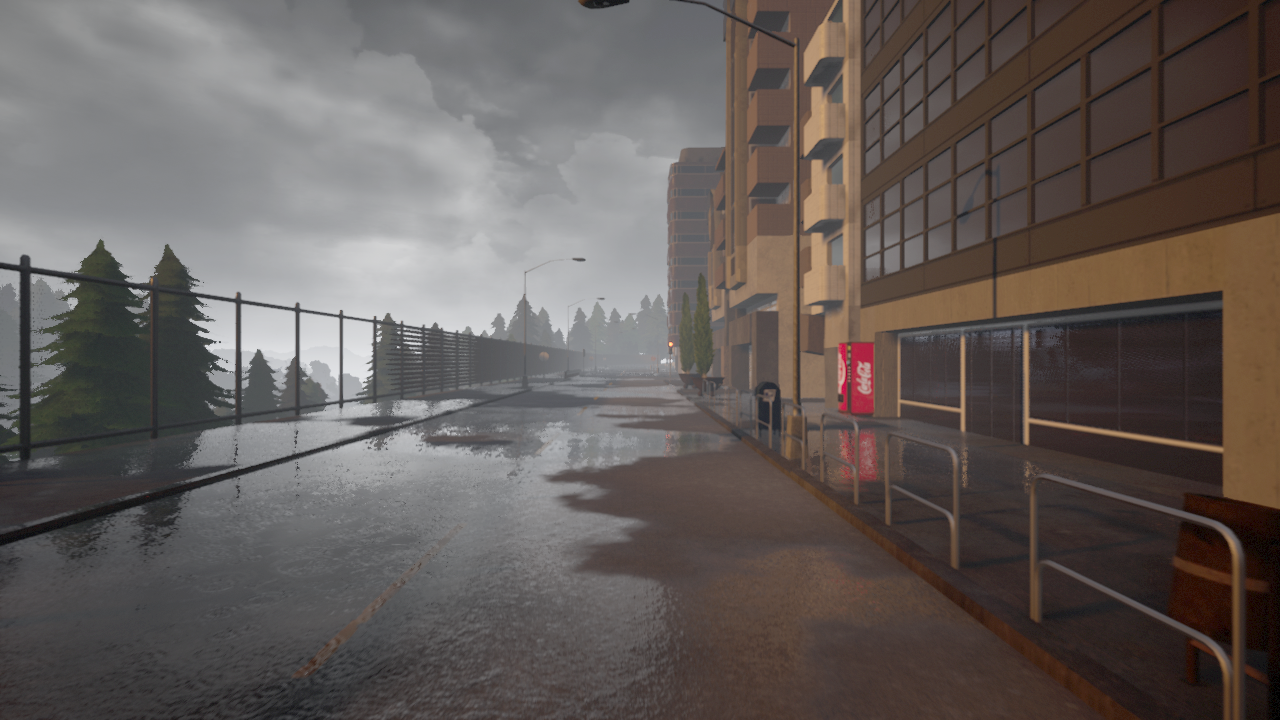red: (667, 340, 673, 355)
